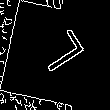L_SW: (25, 28, 85, 82)
